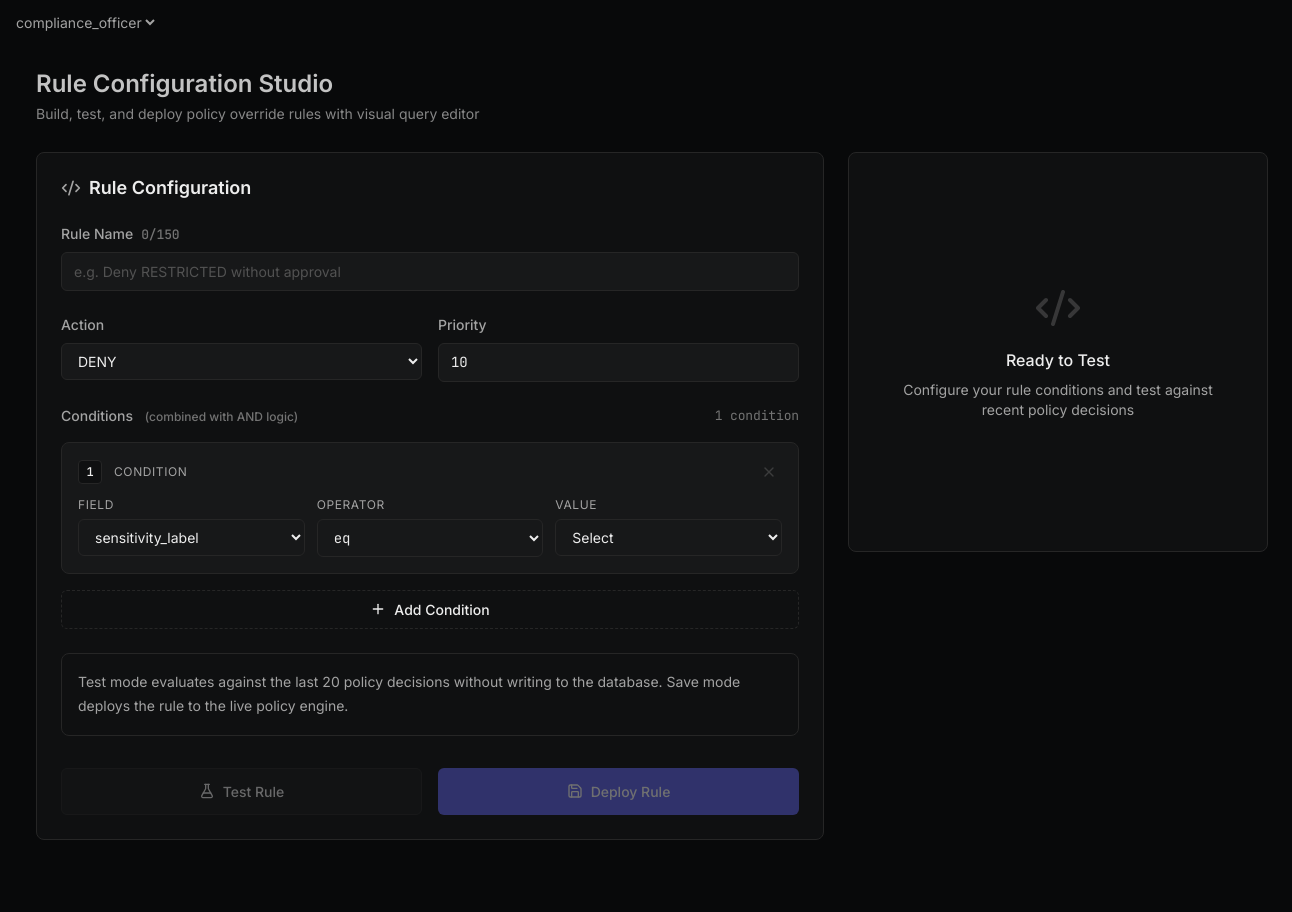
RuleBuilderScreen › keeps test and save disabled until name and one condition are filled
This screenshot has width=1292, height=912.
Expected: the button "Test Rule" is disabled, [61, 768, 422, 814]
Expected: the button "Deploy Rule" is disabled, [438, 768, 799, 814]
Type "Deny restricted" into the field with placeholder "e.g. Deny RESTRICTED without approval".
click(430, 271); type("Deny restricted")  # box [61, 252, 799, 290]
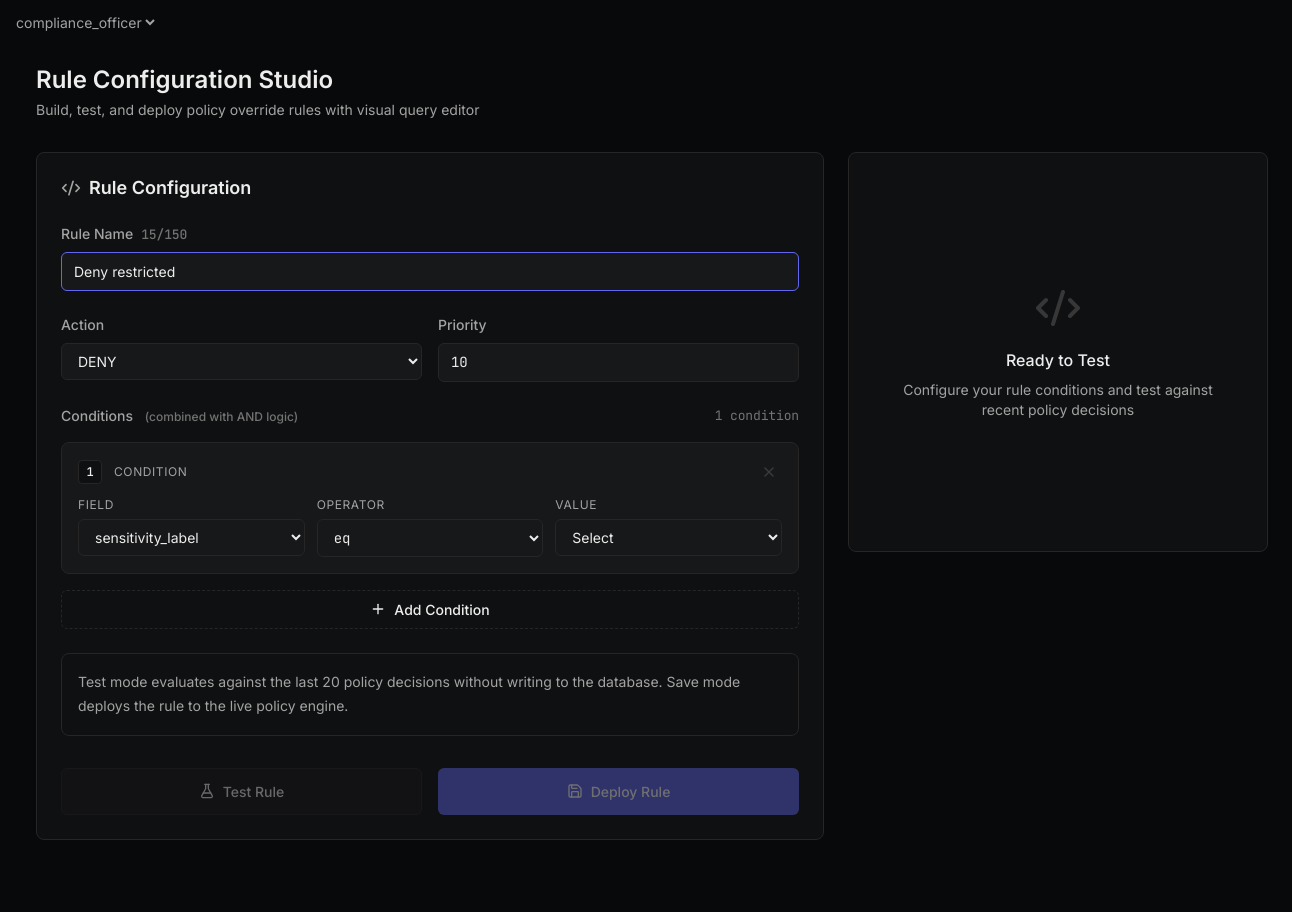
Expected: the button "Test Rule" is disabled, [61, 768, 422, 814]
Select "RESTRICTED" in the dropdown labelled "Value" at (669, 537), box [555, 518, 782, 556]
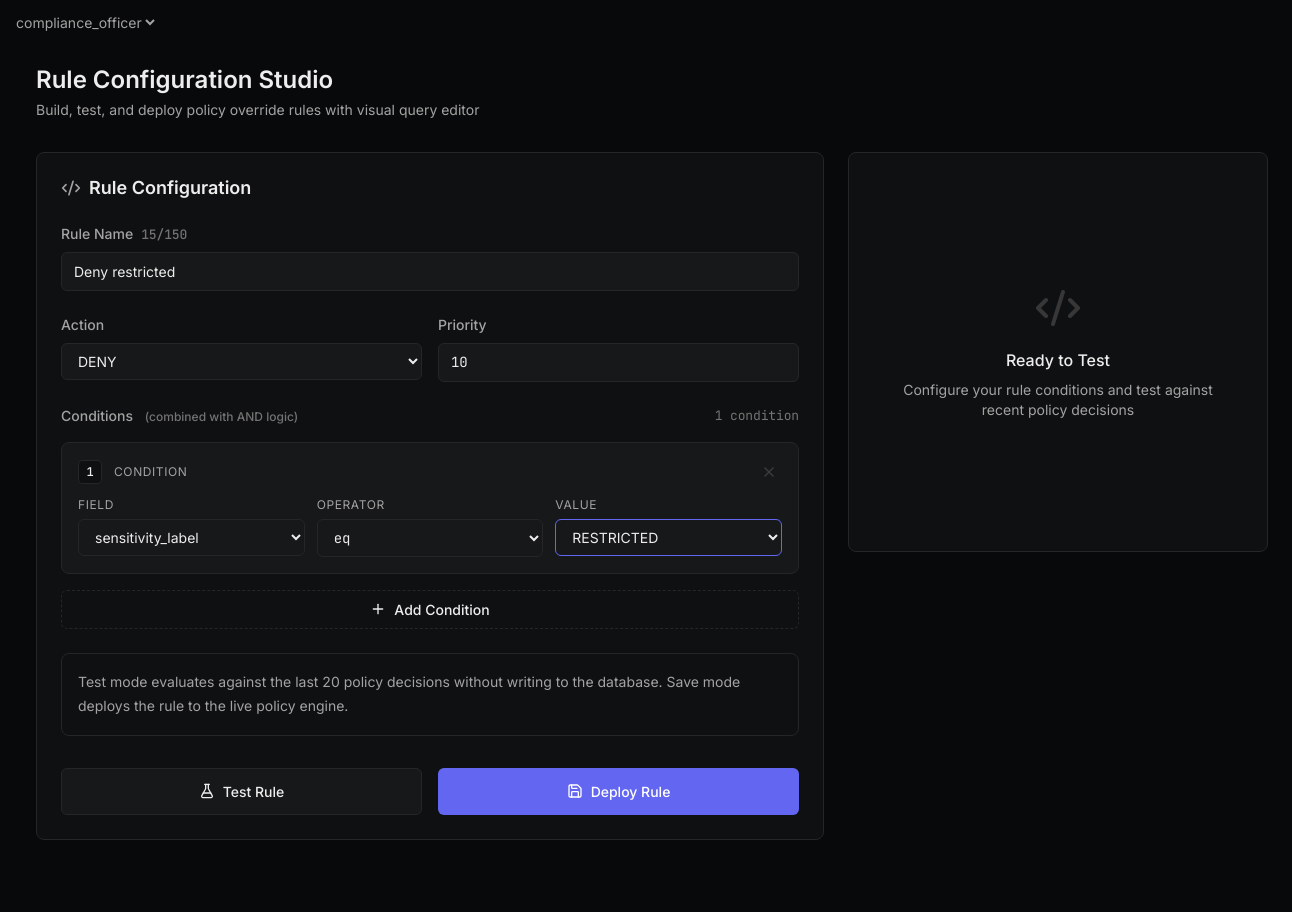
Now the button "Test Rule" is enabled, box [61, 768, 422, 814]
Now the button "Deploy Rule" is enabled, box [438, 768, 799, 814]
